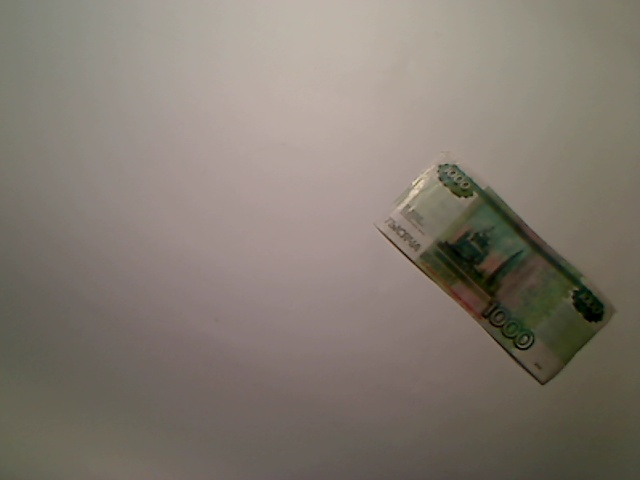banknotes: (371, 147, 622, 388)
